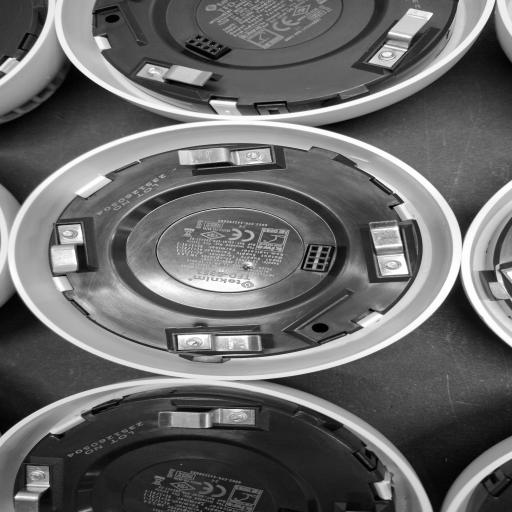konnektor: (296, 240, 344, 275), (180, 32, 238, 60)
yaysiz: (354, 208, 422, 290), (356, 5, 437, 71), (162, 325, 290, 360), (148, 400, 261, 434), (43, 217, 95, 287), (168, 143, 288, 173)
